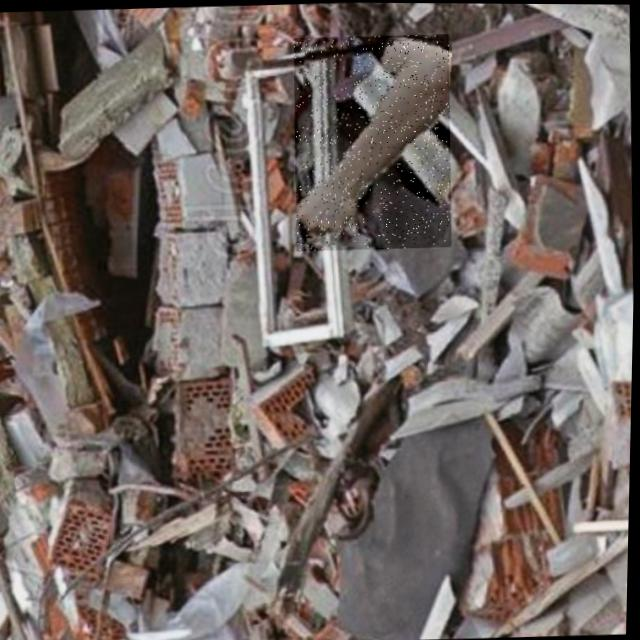Person in Rubble: (290, 31, 455, 250)
